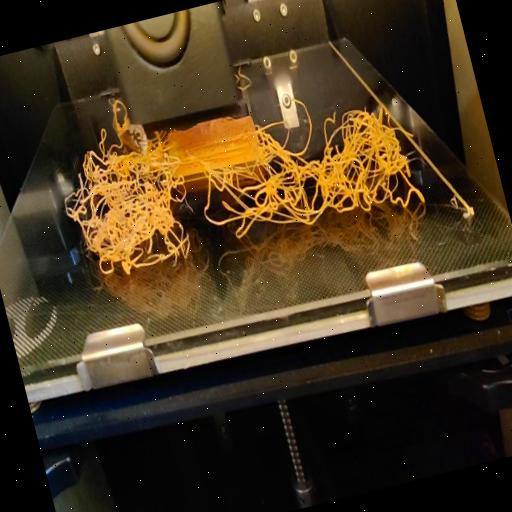spaghetti: (52, 72, 436, 293), (86, 94, 134, 152), (234, 64, 252, 90)
